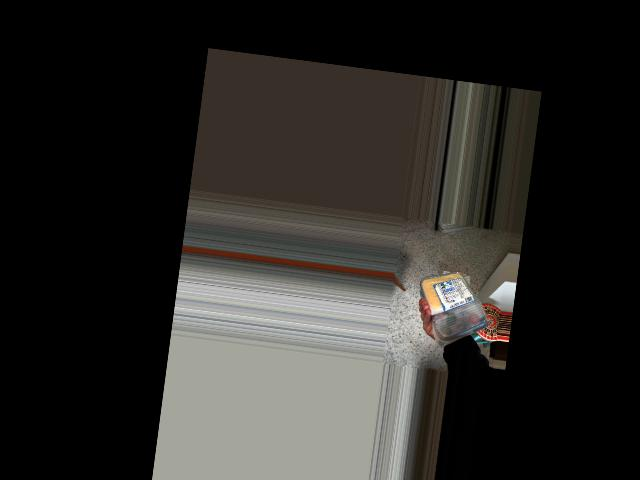cheese: (421, 261, 496, 343)
